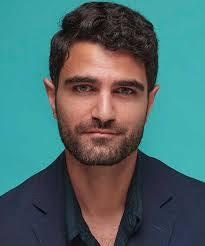middle_eastern_male: (52, 30, 152, 163)
